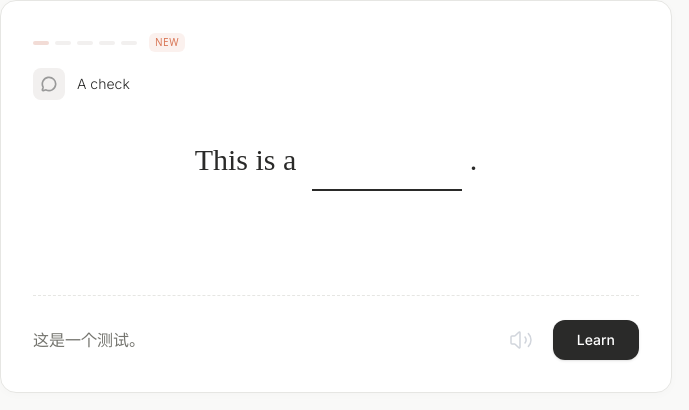
Test: Flashcard component › handles correct answer and auto-advances with audio
Type "test" into the field.
click(387, 161); type("test")  # box 312,132 -> 462,191
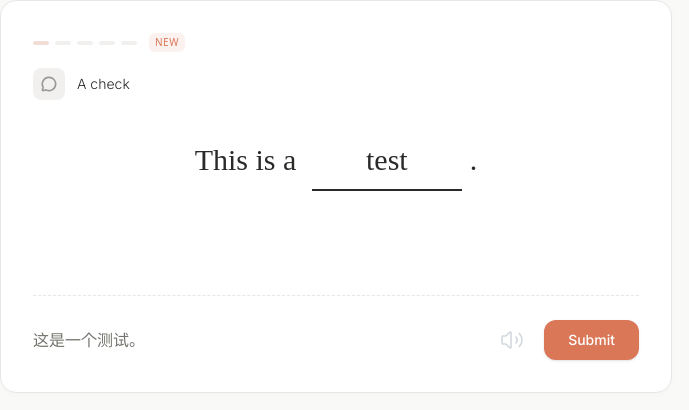
Click the button "Submit".
click(592, 340)  # box 544,320 -> 639,360
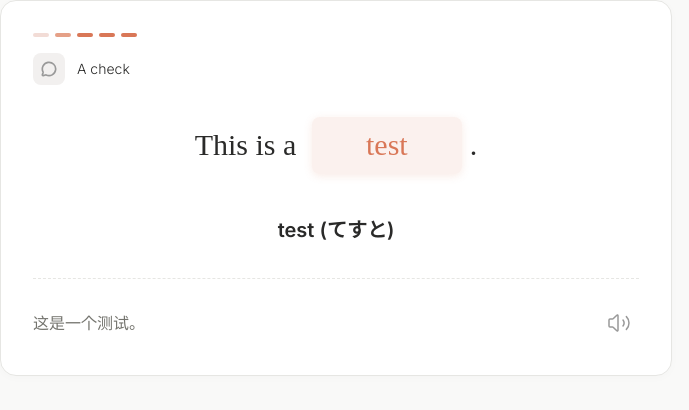
Expected: the text "test (てすと)" is shown, 278,216 -> 394,244
